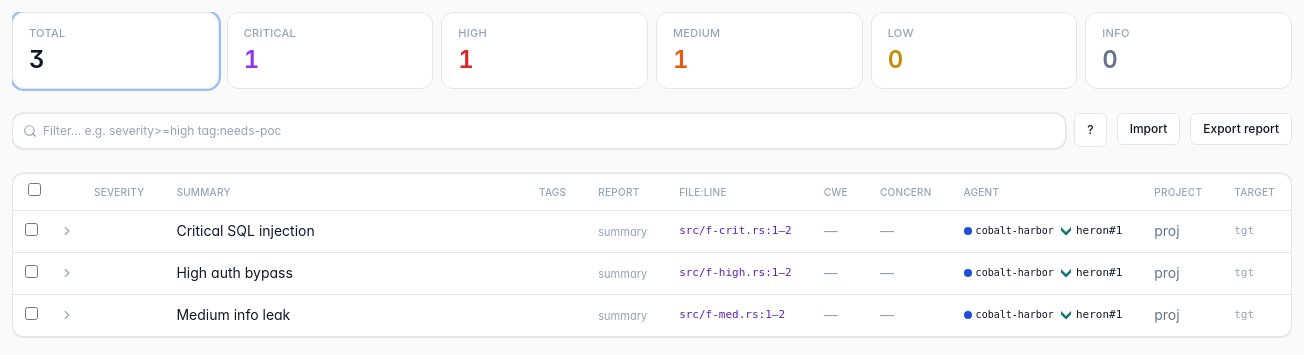
Test case: ProjectFindingsTab — export report › is disabled when the severity filter leaves no rows
This screenshot has width=1304, height=355.
Expected: the text "High auth bypass" is shown, 176,264 -> 293,281
Click the button with aria-label "Filter by low": x=974, y=50 871,12 -> 1077,88
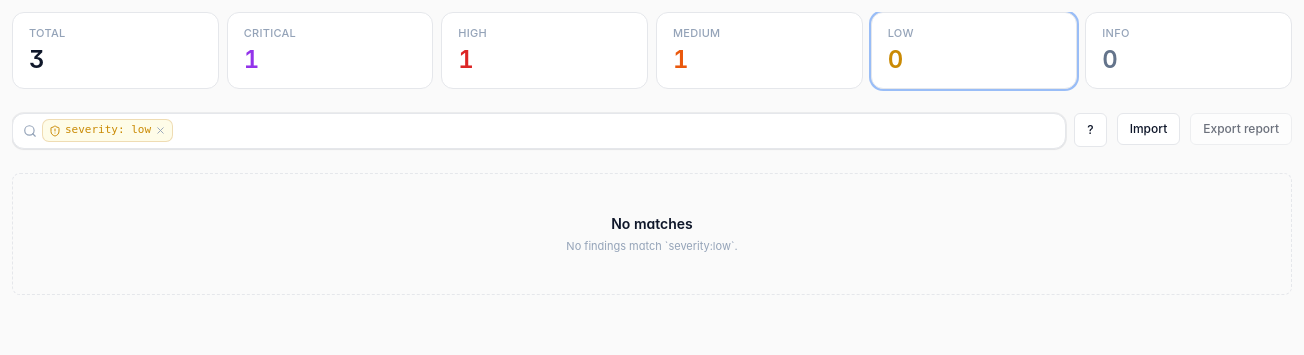
Expected: the text "No findings match `severity:low`." is shown, 566,238 -> 738,252
Expected: the button "Export report" is disabled, 1190,112 -> 1292,144
